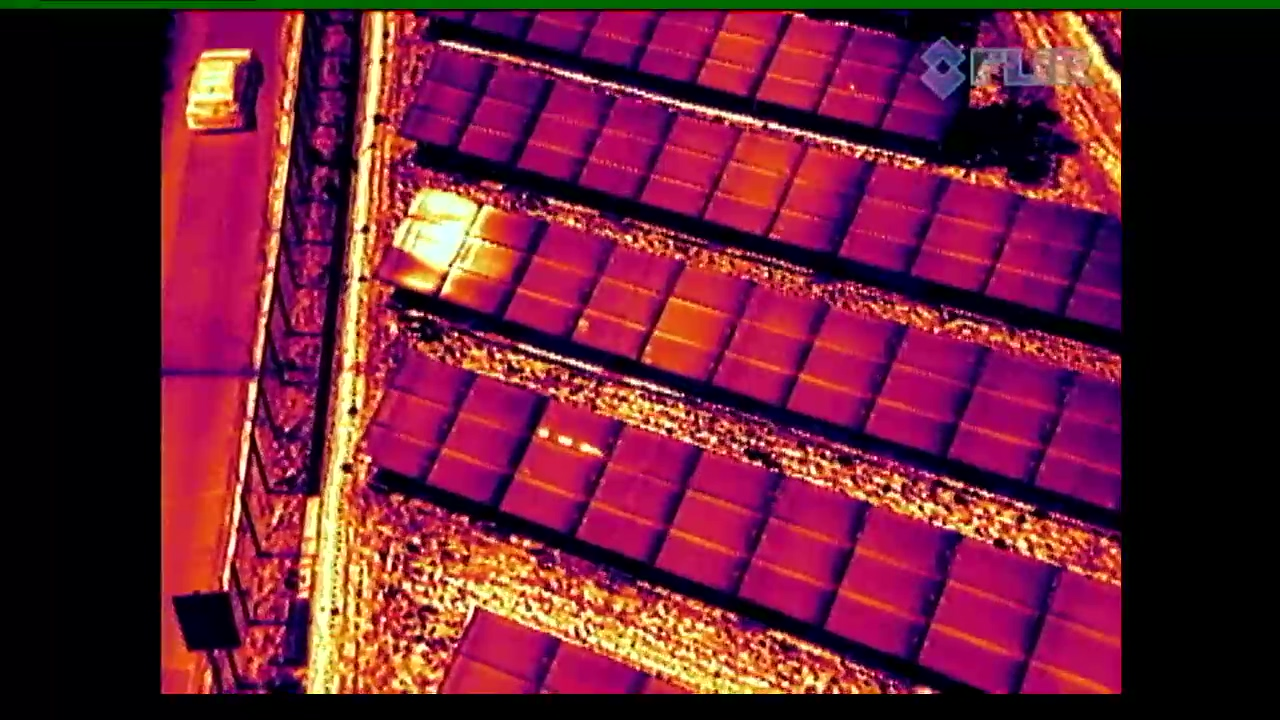hotspot: (495, 404, 620, 537), (570, 243, 686, 380)
